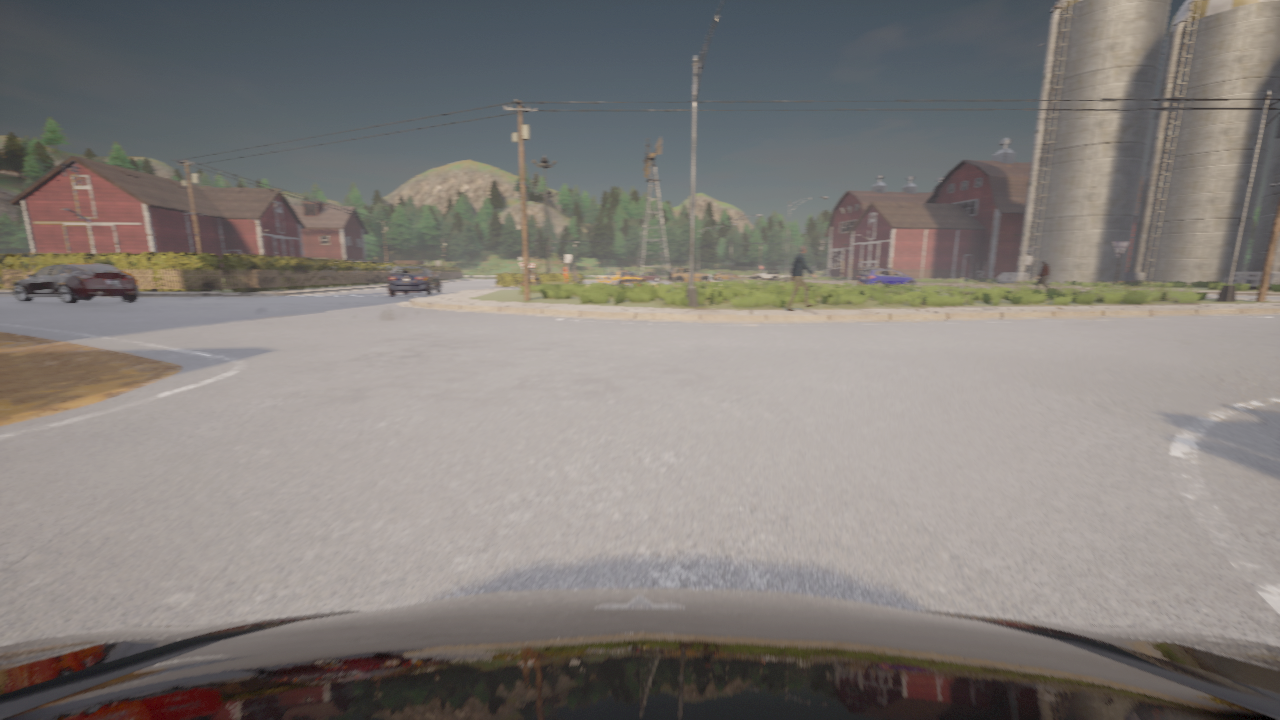cyclist: (0, 588, 1279, 719), (13, 263, 138, 303), (388, 265, 441, 294), (857, 269, 915, 285), (595, 269, 646, 286), (668, 268, 710, 281), (749, 268, 779, 280), (516, 274, 541, 287), (712, 272, 738, 280), (638, 272, 660, 280), (628, 271, 636, 275)
pedestrian: (786, 245, 816, 310), (1036, 260, 1050, 288), (562, 262, 570, 283), (571, 262, 579, 283), (531, 271, 535, 284)
